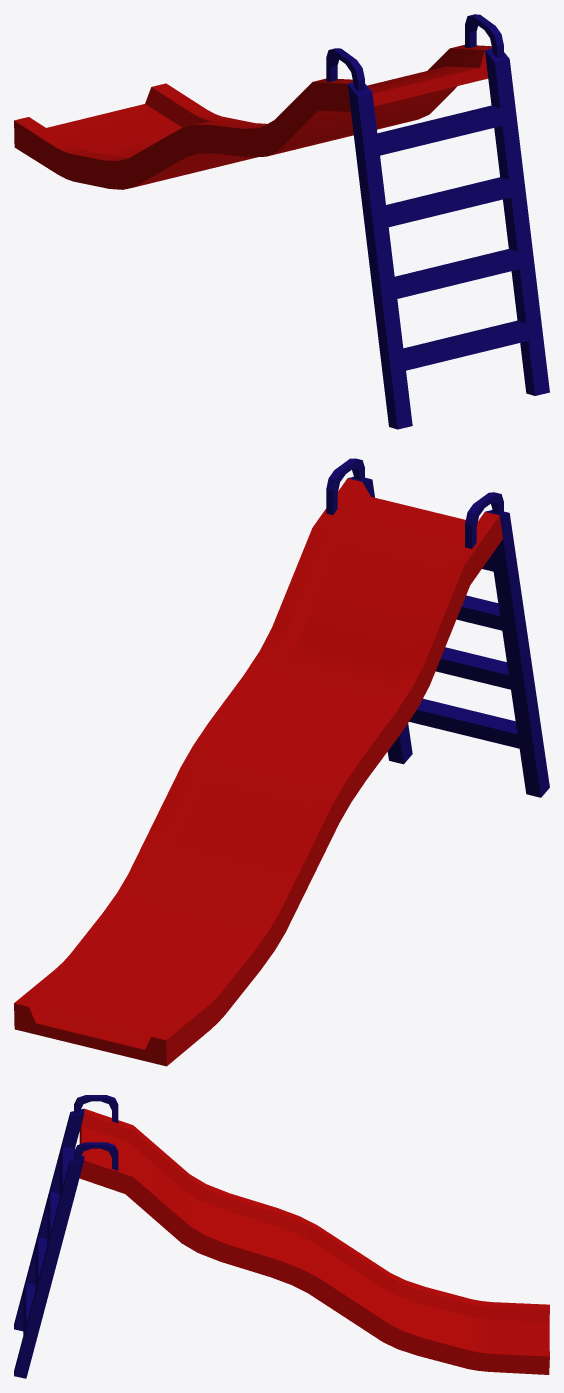
Rendered from Slide.fbx.
3 views of the same model, one above another, from view 1: azimuth 30°, elevation 25°; view 2: azimuth 150°, elevation 25°; view 3: azimuth 270°, elevation 25° (orthographic). The views are drawn at different scales.
Parts seen in each view (by area): view 1: Cube.010, Cube.009; view 2: Cube.009, Cube.010; view 3: Cube.009, Cube.010.
Part boxes in pixels (left/top/right/bottom): Cube.010: left=326, top=14, right=549, bottom=429; Cube.009: left=14, top=44, right=491, bottom=189; Cube.009: left=14, top=478, right=502, bottom=1066; Cube.010: left=326, top=458, right=549, bottom=797; Cube.009: left=79, top=1108, right=549, bottom=1374; Cube.010: left=14, top=1095, right=118, bottom=1378.
Bounding box in the file's own units: 60.35 × 126 × 264.
Materials: 2 (2 with a texture image).
